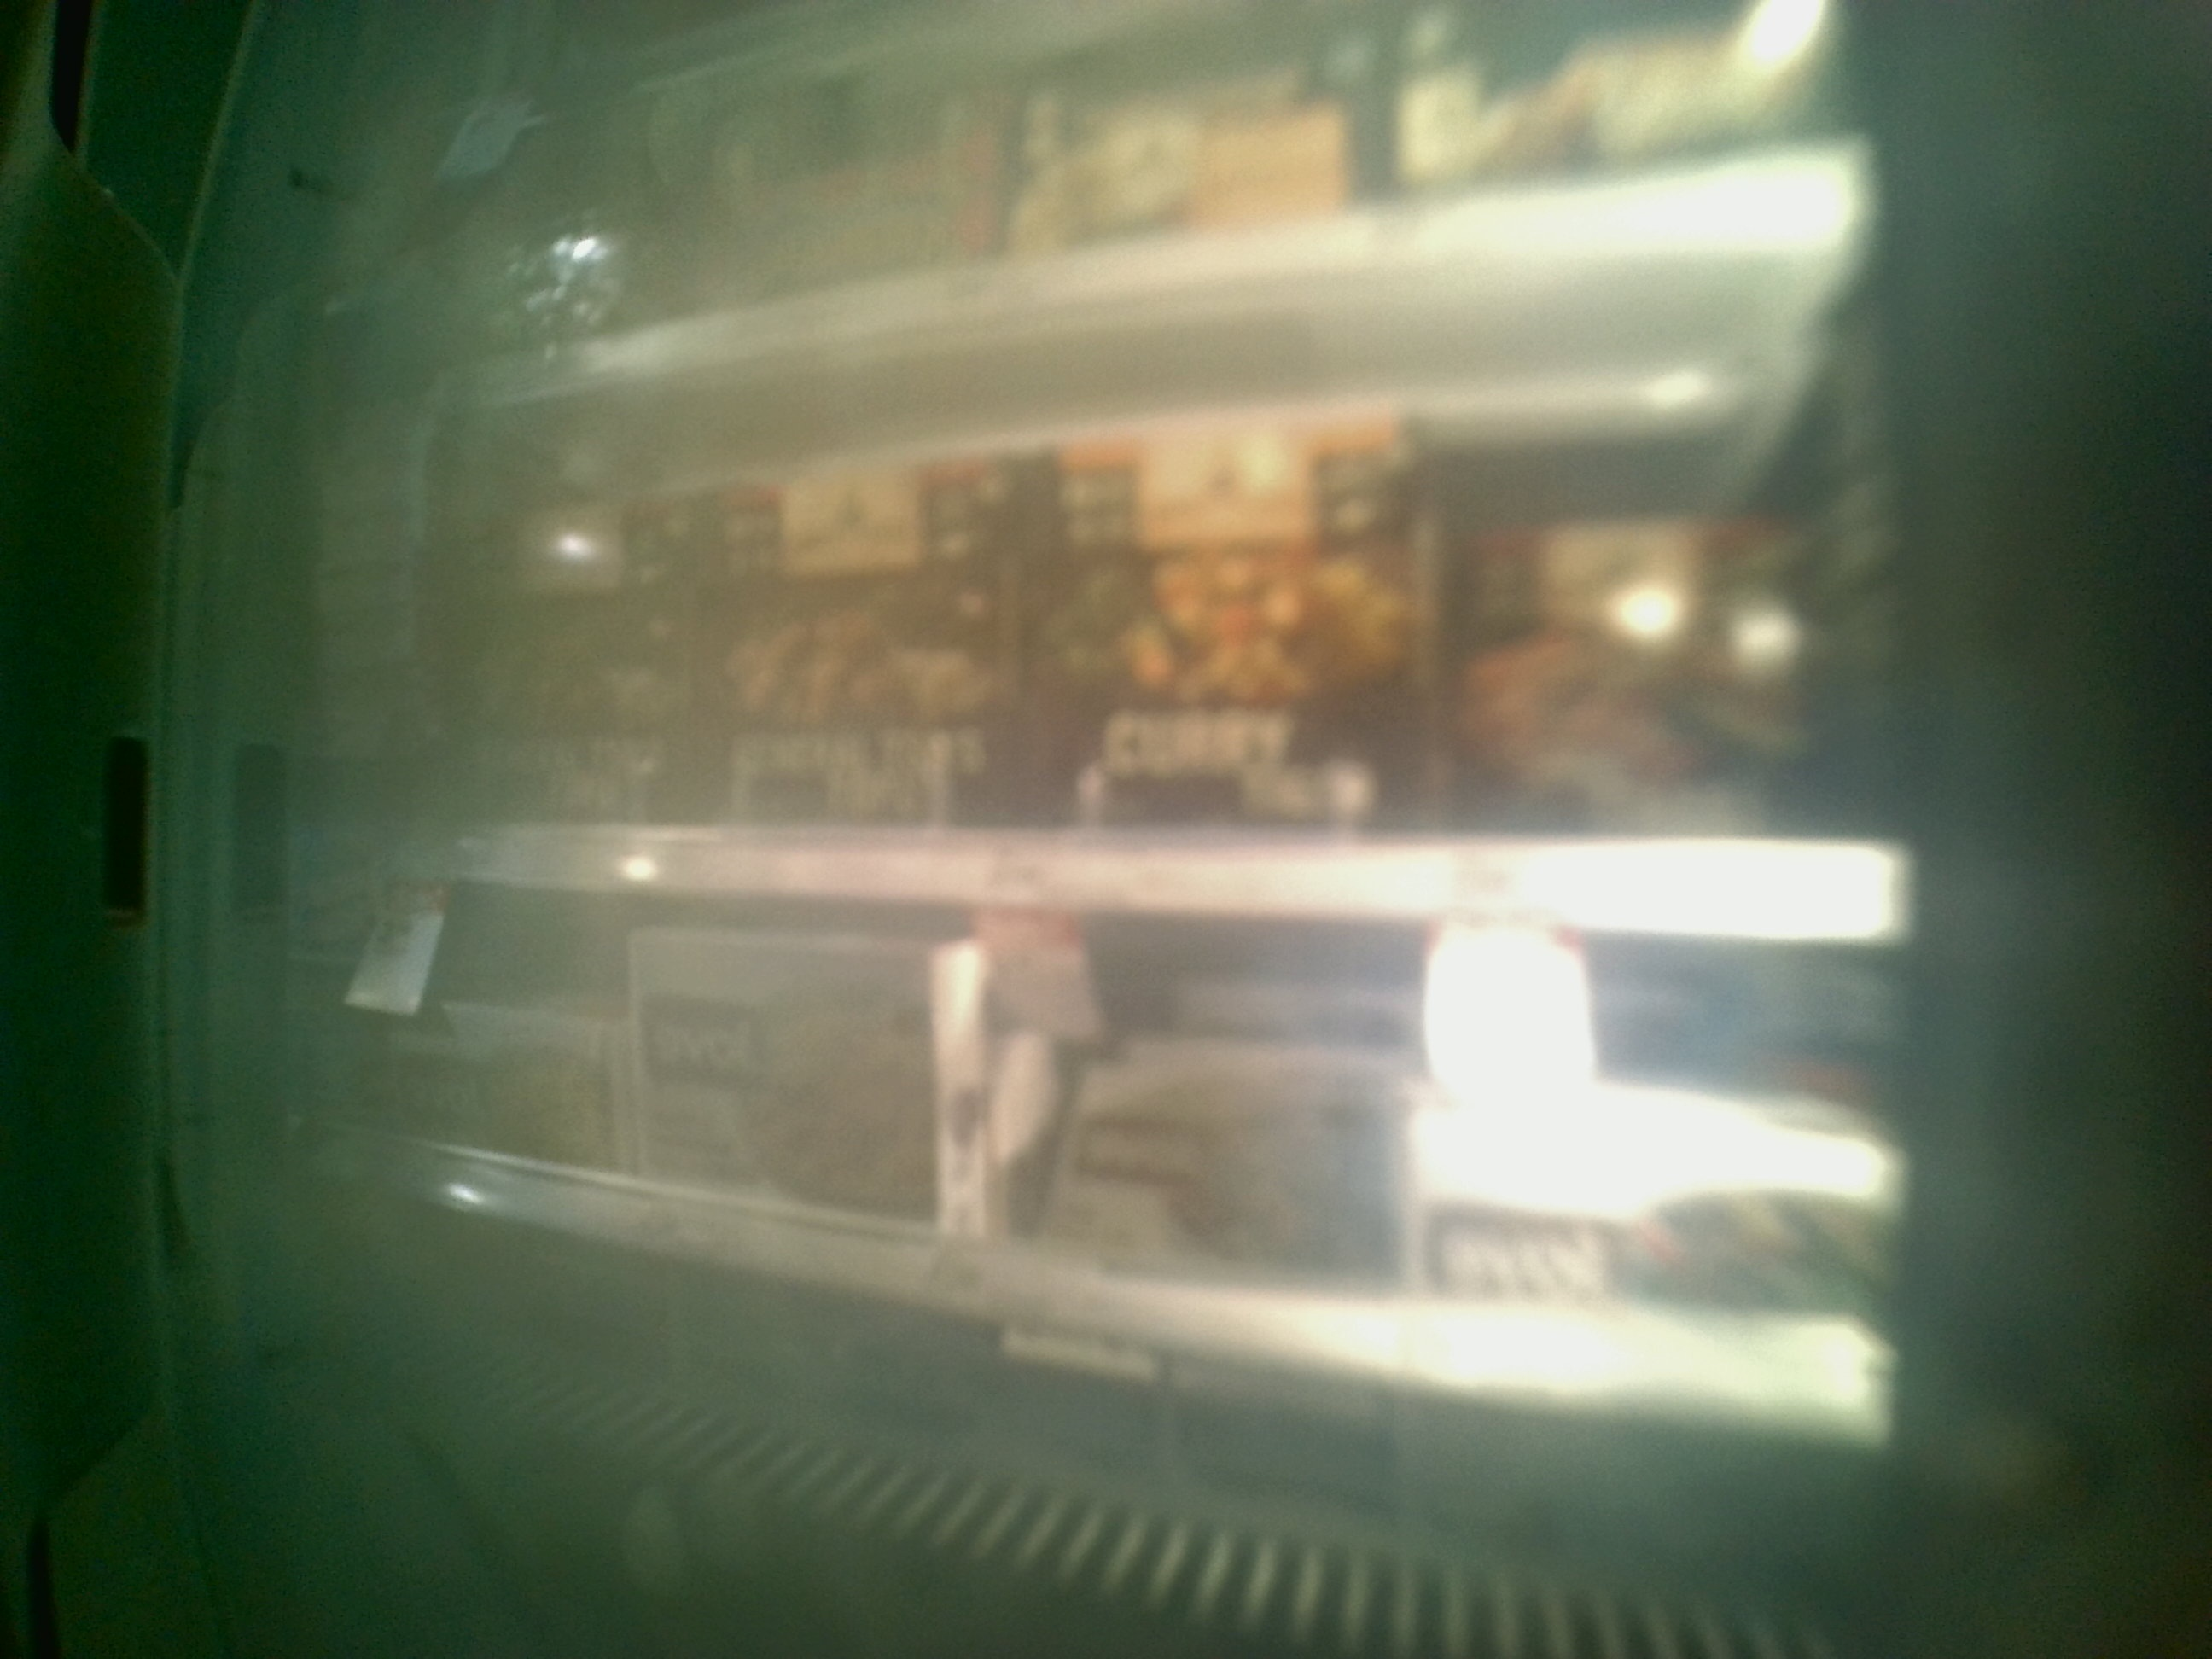frozen-food-shelf: (354, 457, 1912, 948)
